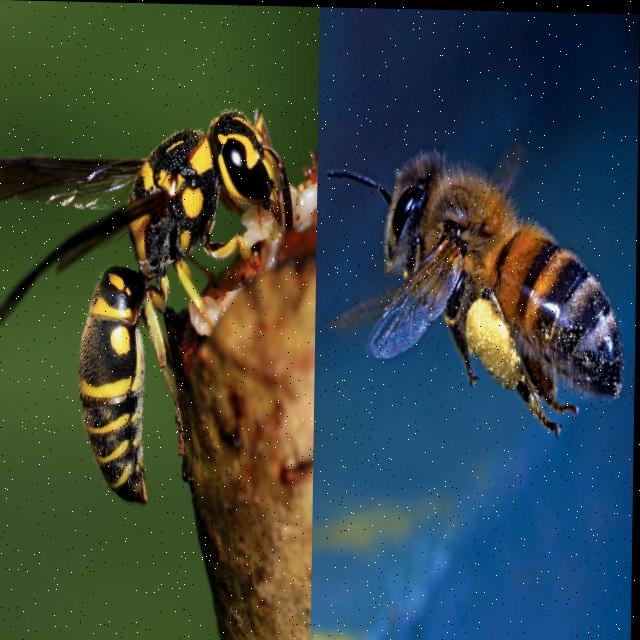Apis-mellifera-scutellata: (340, 126, 632, 443)
